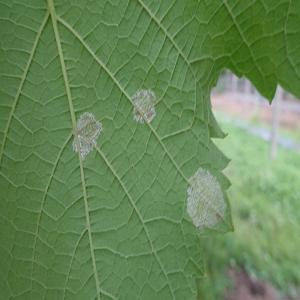Folha: (0, 0, 299, 299)
Fungo: (186, 166, 227, 230), (72, 110, 104, 163), (131, 87, 157, 125)
